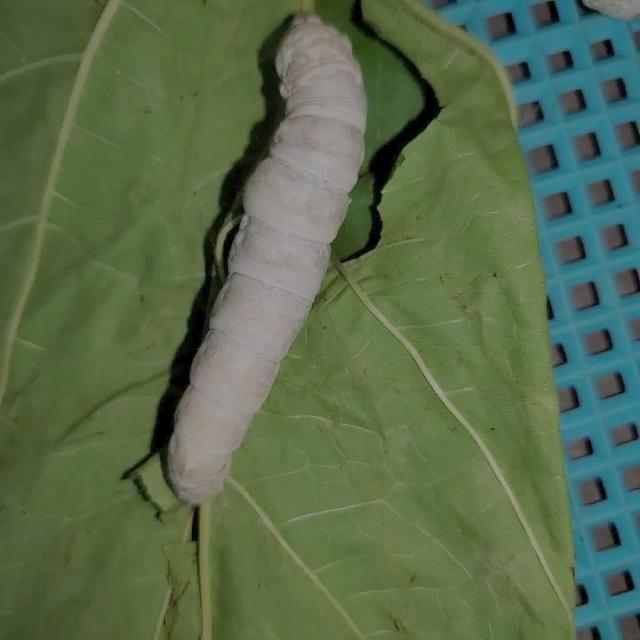Grasserie: (161, 10, 378, 510)
